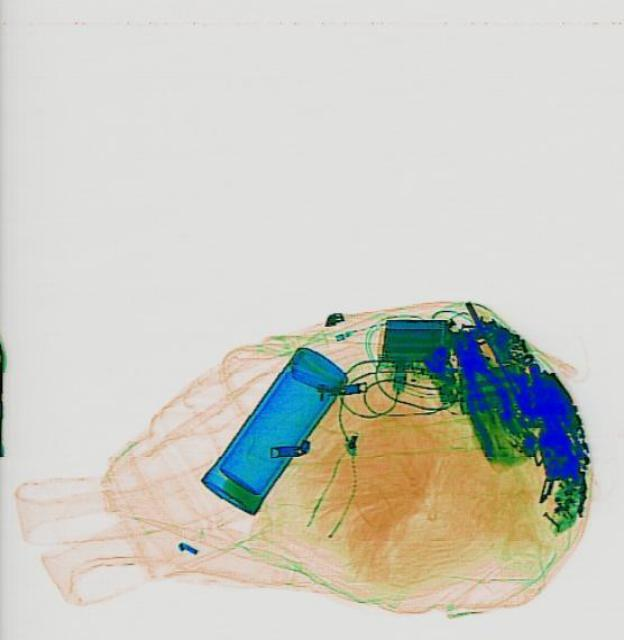Pliers: (439, 325, 516, 429)
